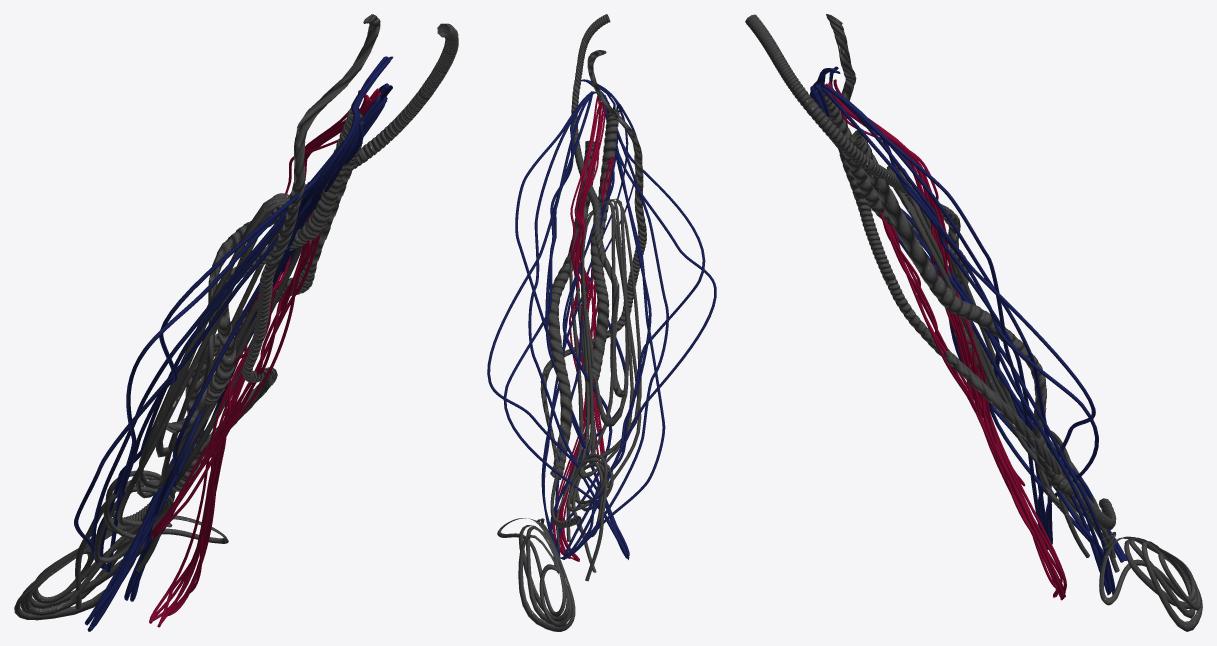
File: pared cable color.glb
3 views of the same model, side by side, from view 1: azimuth 30°, elevation 25°; view 2: azimuth 150°, elevation 25°; view 3: azimuth 270°, elevation 25° (orthographic). The views are drawn at different scales.
Visible parts, largest first — view 1: Wire.010; view 2: Wire.010; view 3: Wire.010.
Part boxes in pixels (x1,y1,x2,y2): Wire.010: (14,14,458,631); Wire.010: (487,14,716,631); Wire.010: (745,14,1202,631).
Size of the model in its own units: 20.01 by 53.16 by 32.66.
4 materials, 2 textured.
